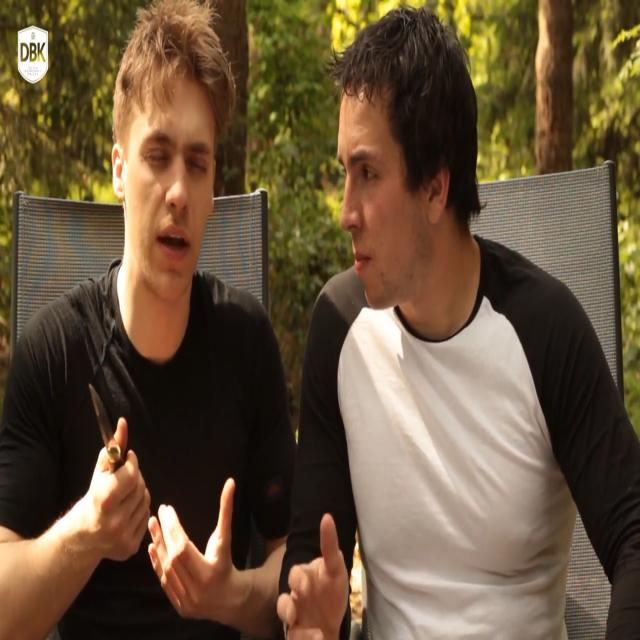knife: (89, 379, 129, 472)
